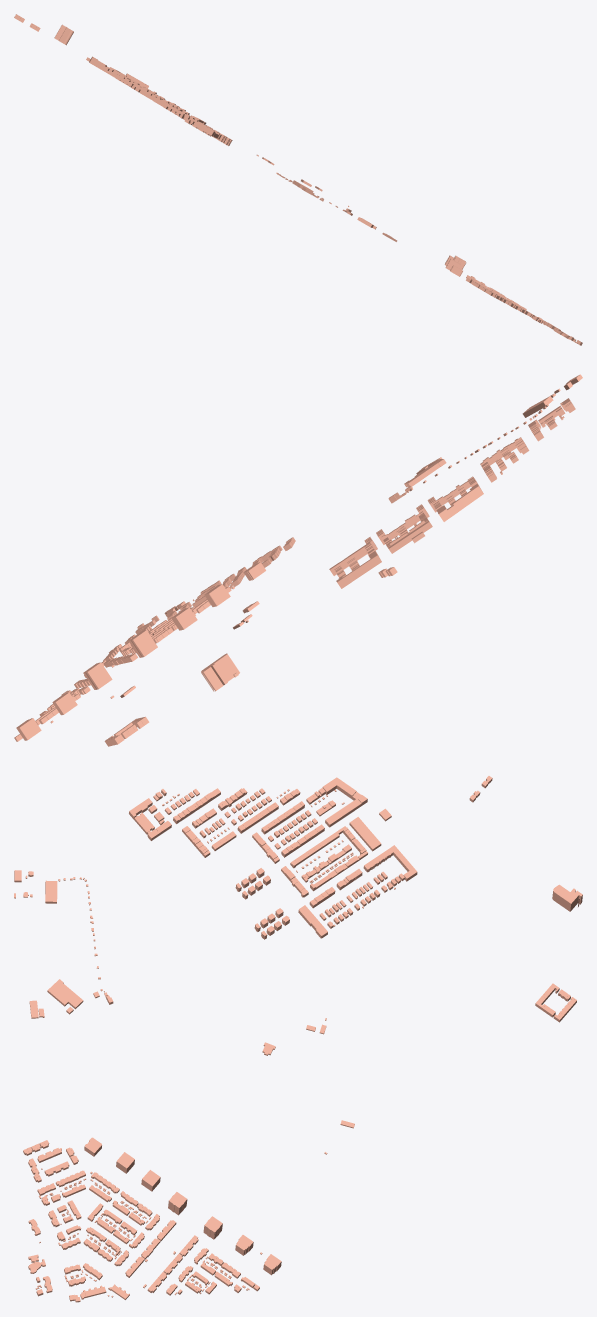
3 views of the same model, one above another, from view 1: azimuth 30°, elevation 25°; view 2: azimuth 150°, elevation 25°; view 3: azimuth 270°, elevation 25° (orthographic). The views are drawn at different scales.
Bounding box in the file's own units: 1049 × 762 × 1212.
